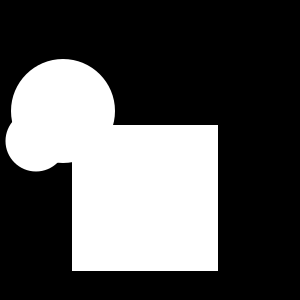circle: (72, 125, 218, 271)
rectangle: (11, 59, 115, 163), (5, 110, 66, 172)
